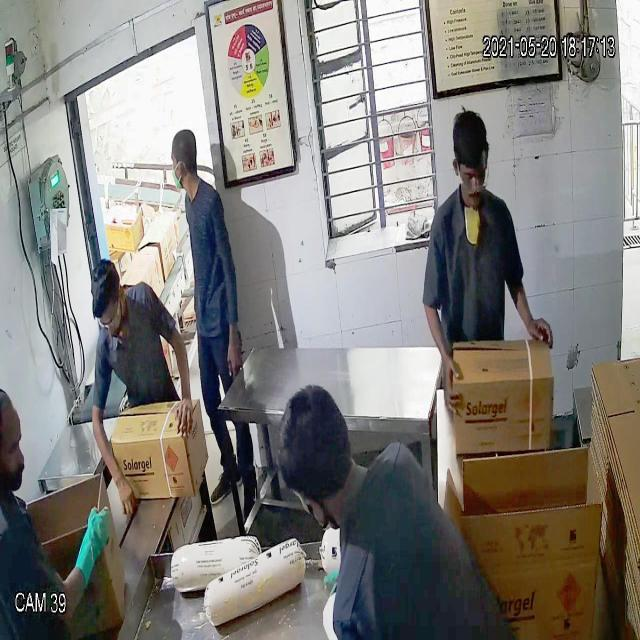glasses: (452, 151, 497, 198), (92, 307, 126, 337)
